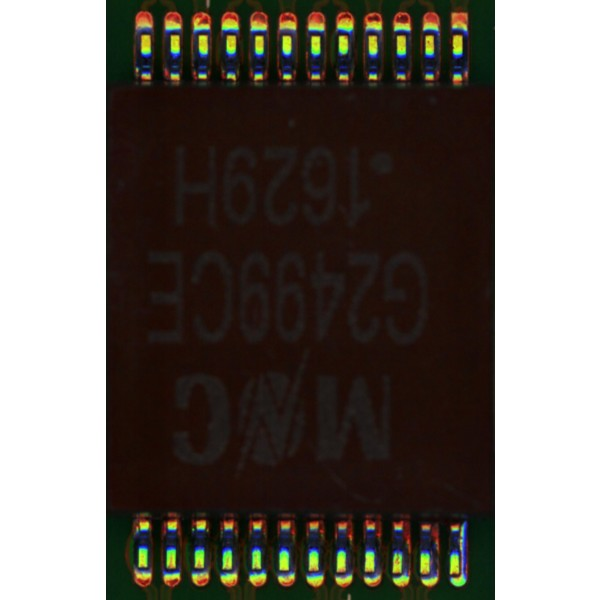Bad_qiaojiao: (460, 522, 466, 571)
